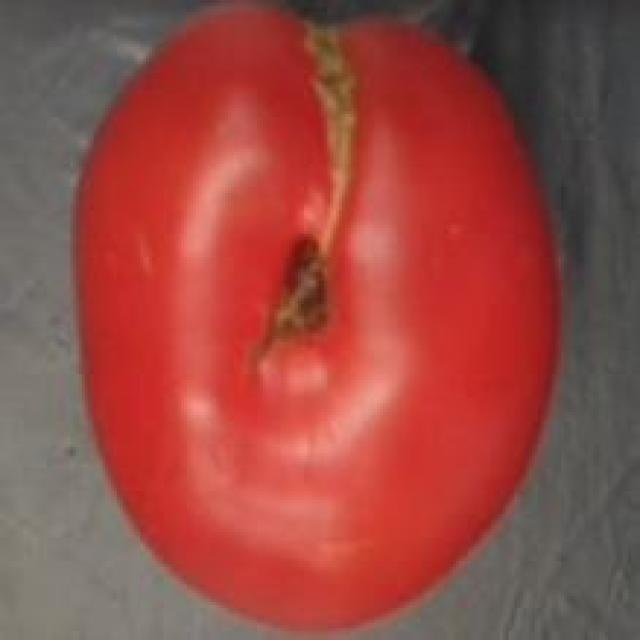overripe tomato: (67, 0, 570, 640)
